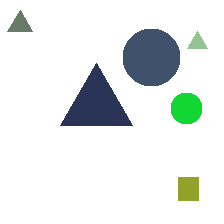circle: (123, 29, 179, 85), (171, 93, 201, 123)
rectangle: (178, 177, 198, 200)
triangle: (60, 63, 132, 125), (7, 10, 32, 31), (187, 31, 207, 48)
